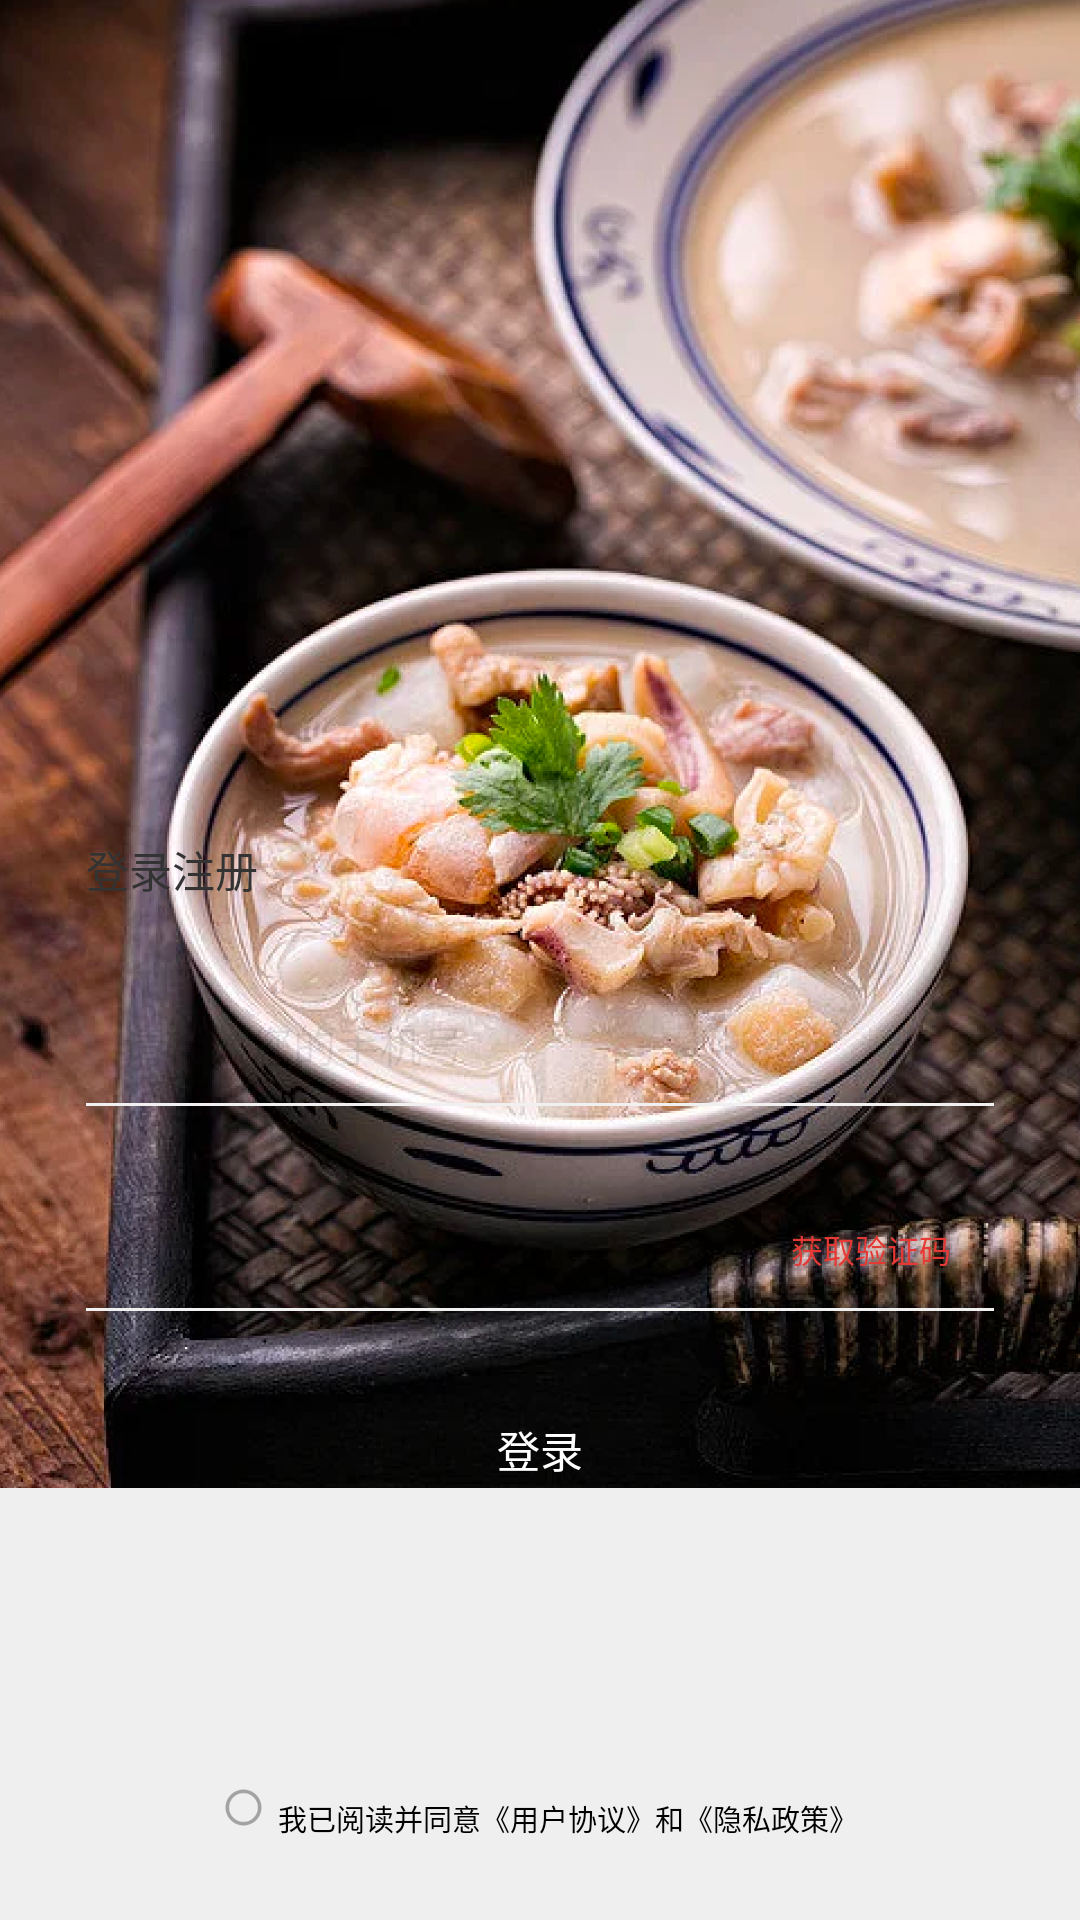

Screen size 1080 × 1920. Icon name, then its center in pixels as point (x, y):
redio check: point (243, 1807)
